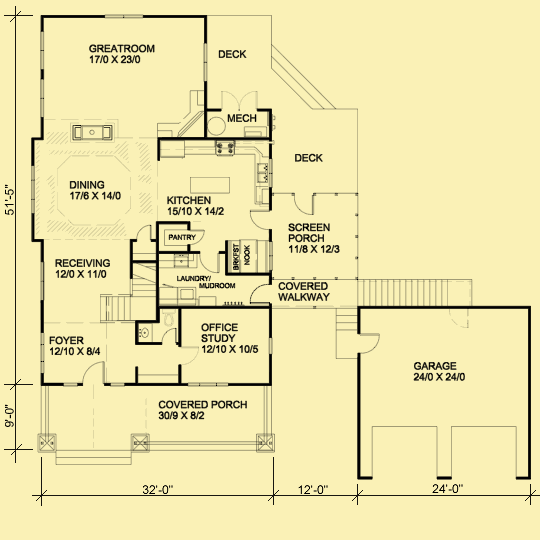door: (218, 86, 266, 117), (248, 280, 276, 309), (79, 359, 108, 386), (248, 205, 274, 235), (292, 189, 317, 218), (356, 330, 382, 357), (448, 308, 474, 334), (178, 341, 201, 370), (198, 252, 223, 276), (135, 221, 158, 242), (190, 226, 207, 246), (163, 329, 182, 346)
kitchen bar: (186, 173, 235, 198)
large sink: (164, 309, 177, 330), (139, 326, 152, 344)
round table: (54, 153, 132, 229)
small sink: (138, 324, 155, 346)
stairs: (96, 261, 159, 325), (357, 277, 474, 307), (53, 447, 134, 469), (334, 306, 360, 360)
windows: (38, 29, 46, 125), (183, 379, 231, 392), (199, 41, 211, 90), (102, 10, 149, 22), (36, 330, 48, 376), (29, 161, 38, 218), (37, 259, 47, 302)
